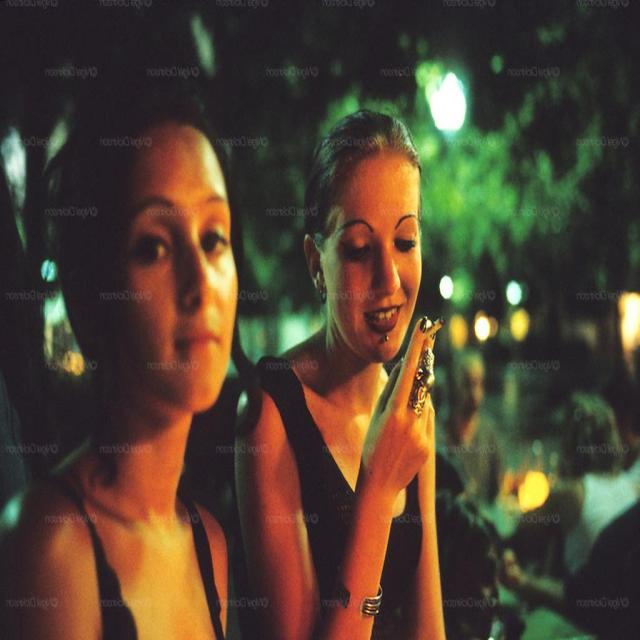smoking: (307, 92, 460, 478)
